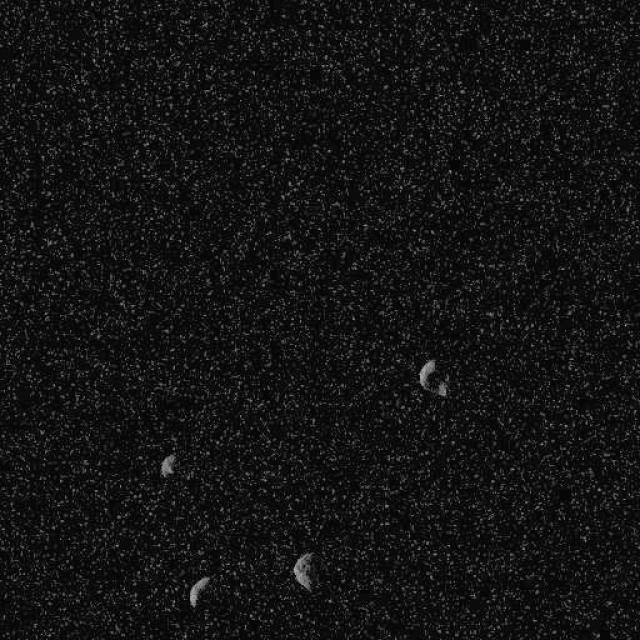D2: (416, 358, 449, 398), (291, 550, 319, 592), (188, 575, 210, 607), (159, 452, 176, 478)
